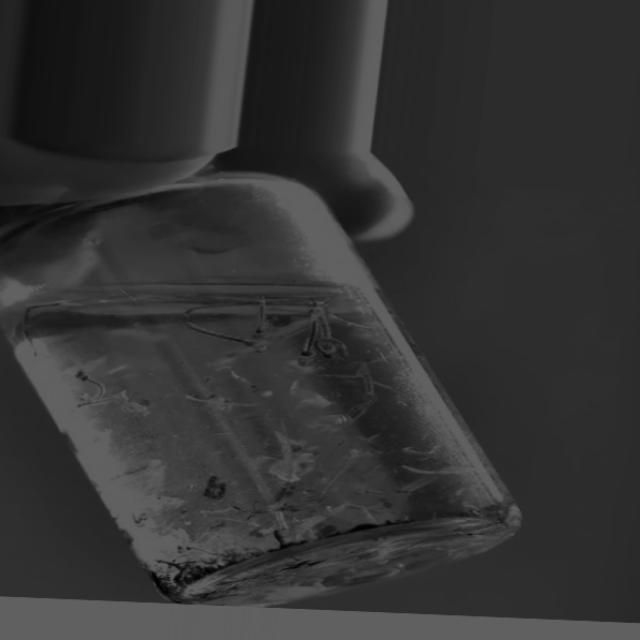larvas: (181, 315, 267, 360), (24, 299, 66, 348), (298, 315, 320, 366), (312, 302, 335, 343), (336, 312, 369, 336), (272, 319, 301, 341), (77, 392, 126, 405), (73, 371, 100, 394), (230, 374, 256, 391), (329, 339, 346, 362), (364, 368, 374, 398), (315, 342, 330, 362), (258, 303, 266, 330)
